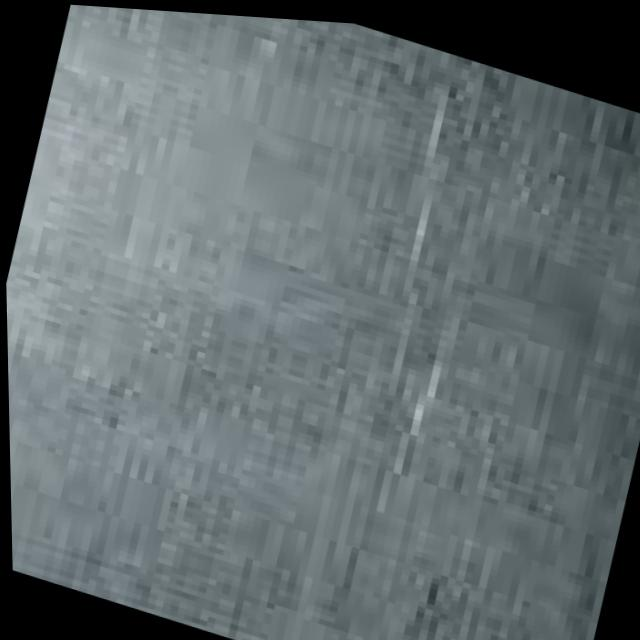metal-plates: (6, 5, 640, 640), (218, 263, 450, 412)
